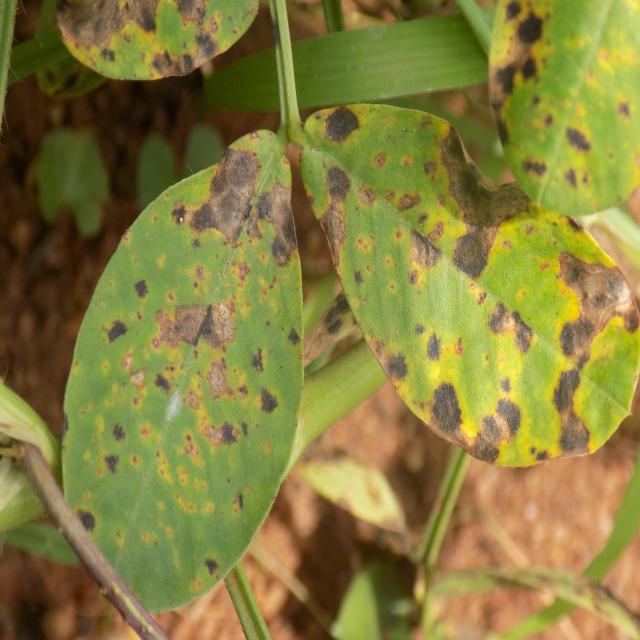Ground nut_tikka leaf spot: (294, 94, 640, 471), (60, 129, 301, 608)
